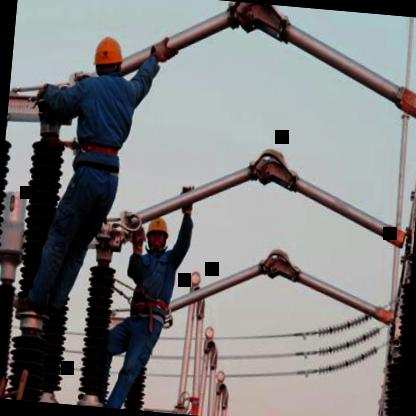helmet: (92, 31, 128, 83), (142, 217, 172, 253)
